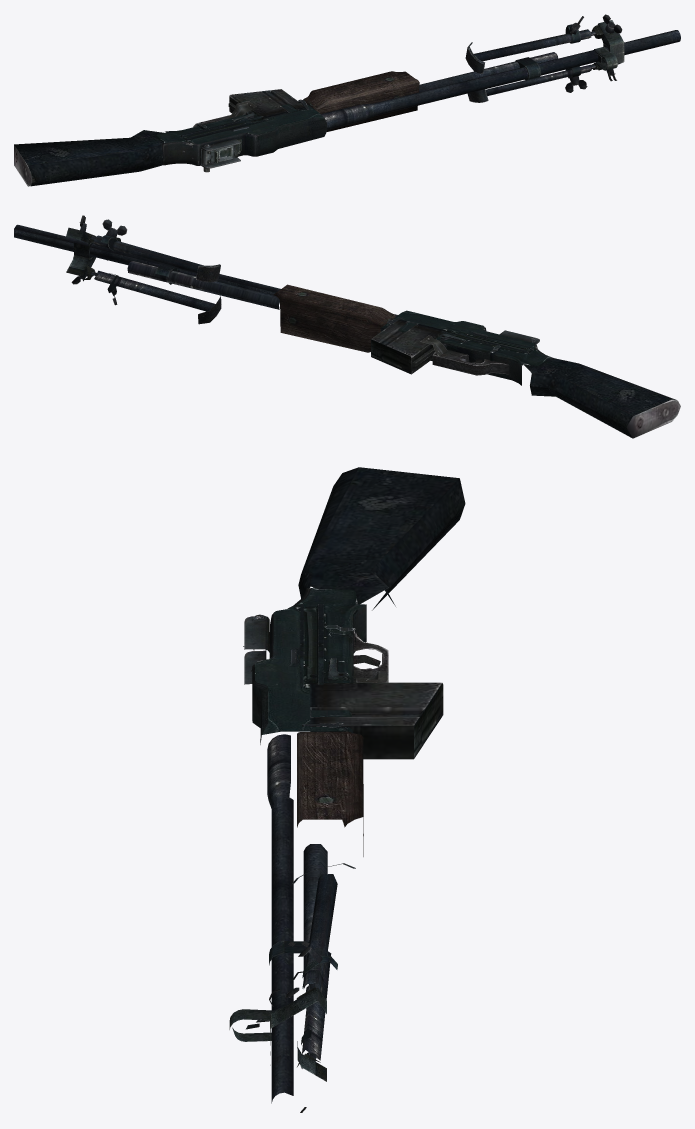
The model's file is viewmodel_bar.glb.
3 views of the same model, one above another, from view 1: azimuth 30°, elevation 25°; view 2: azimuth 150°, elevation 25°; view 3: azimuth 270°, elevation 25° (orthographic). The views are drawn at different scales.
Size of the model in its own units: 48.18 by 5.48 by 7.77.
1 material, 1 textured.
